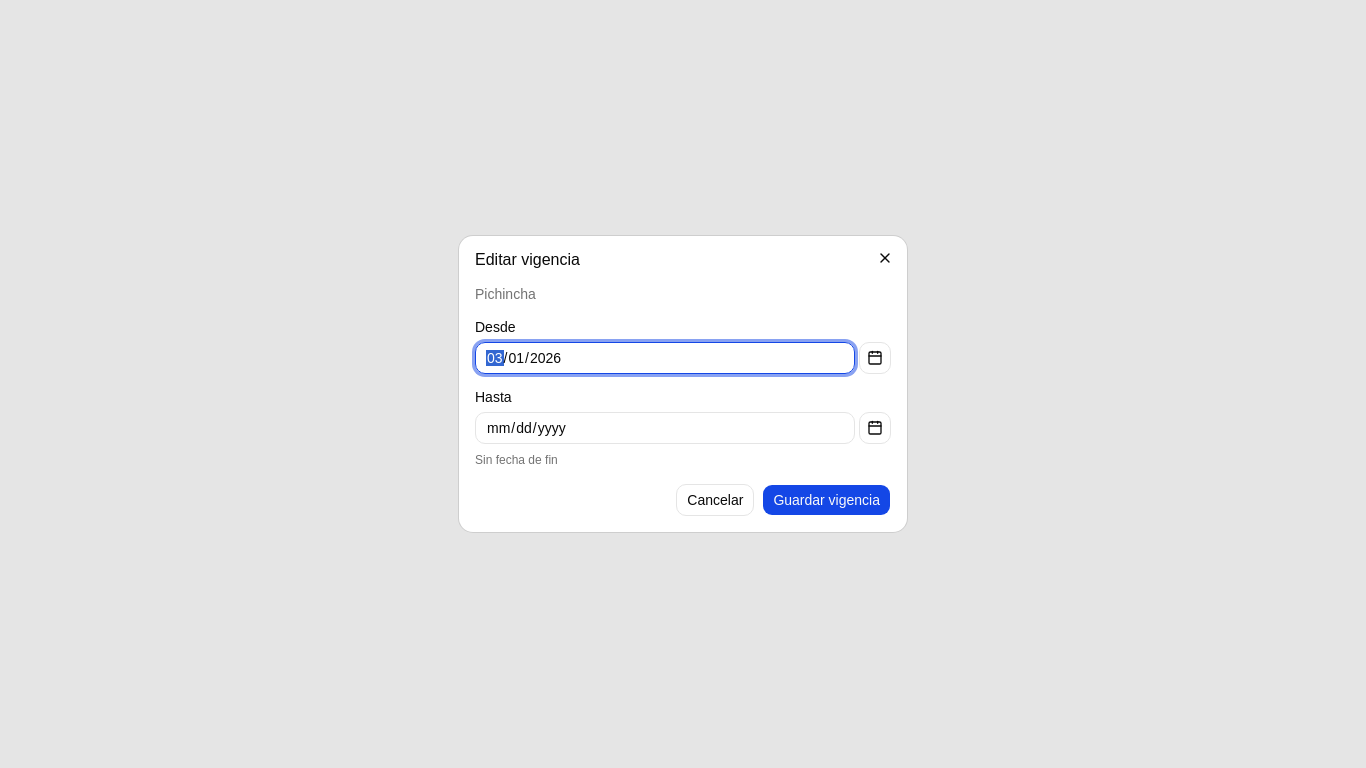
Test: GeoAssignmentValidityDialog — ESAVI-USERGEO-004 › el 409 INVALID_DATE_RANGE del servidor se pinta bajo validTo
The width and height of the screenshot is (1366, 768).
Step 1. Type "2026-04-01" into the date field labelled "Hasta" → (665, 428), box [475, 412, 855, 444]
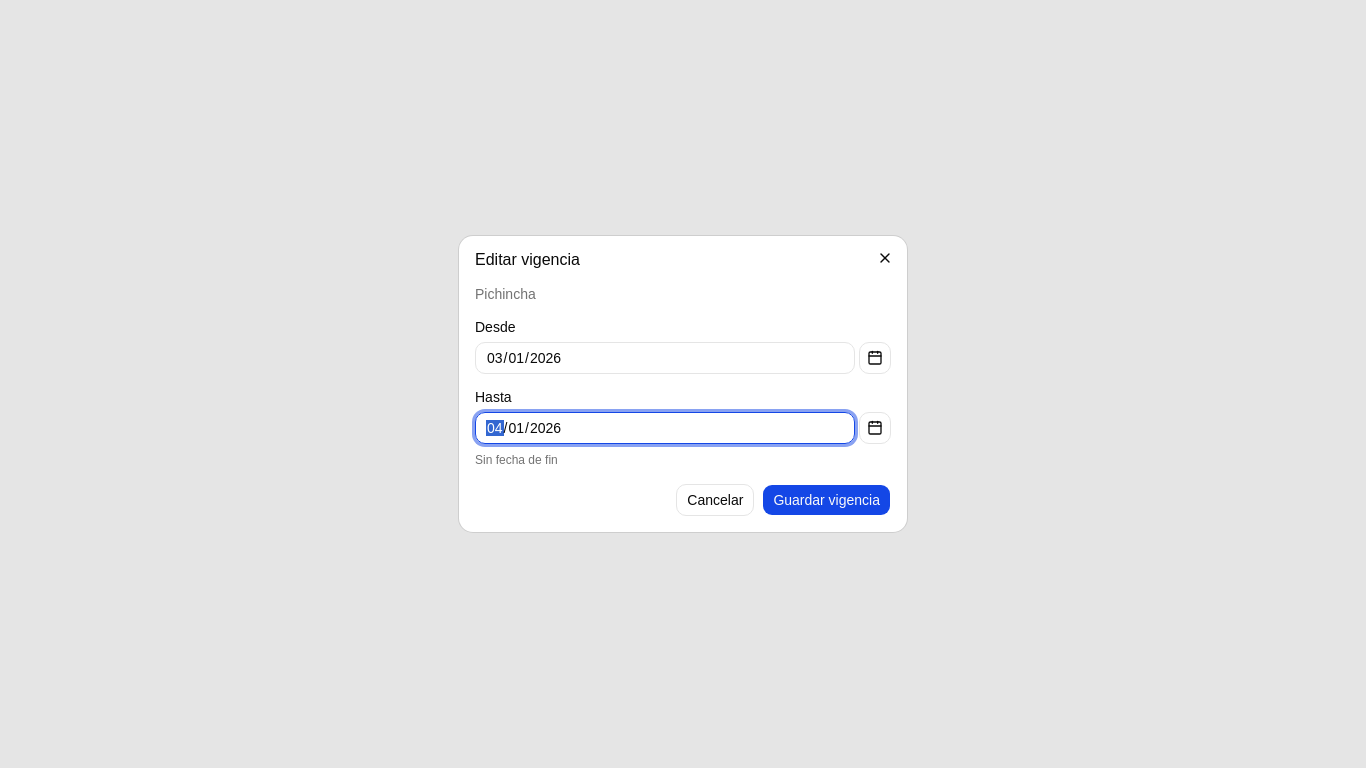
Step 2. Click the button "Guardar vigencia" → (827, 500), box [762, 484, 891, 516]
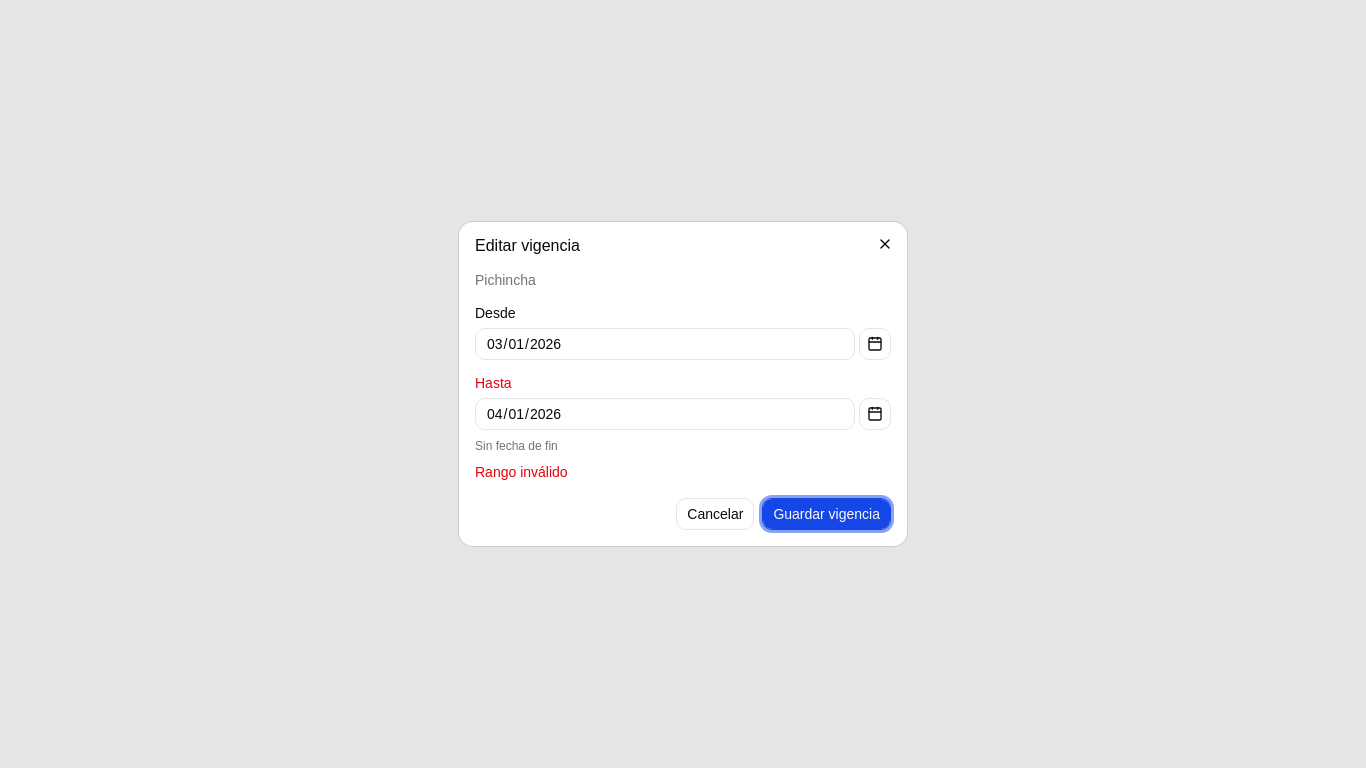
Check: the text "Rango inválido" is shown, box [475, 464, 568, 480]
